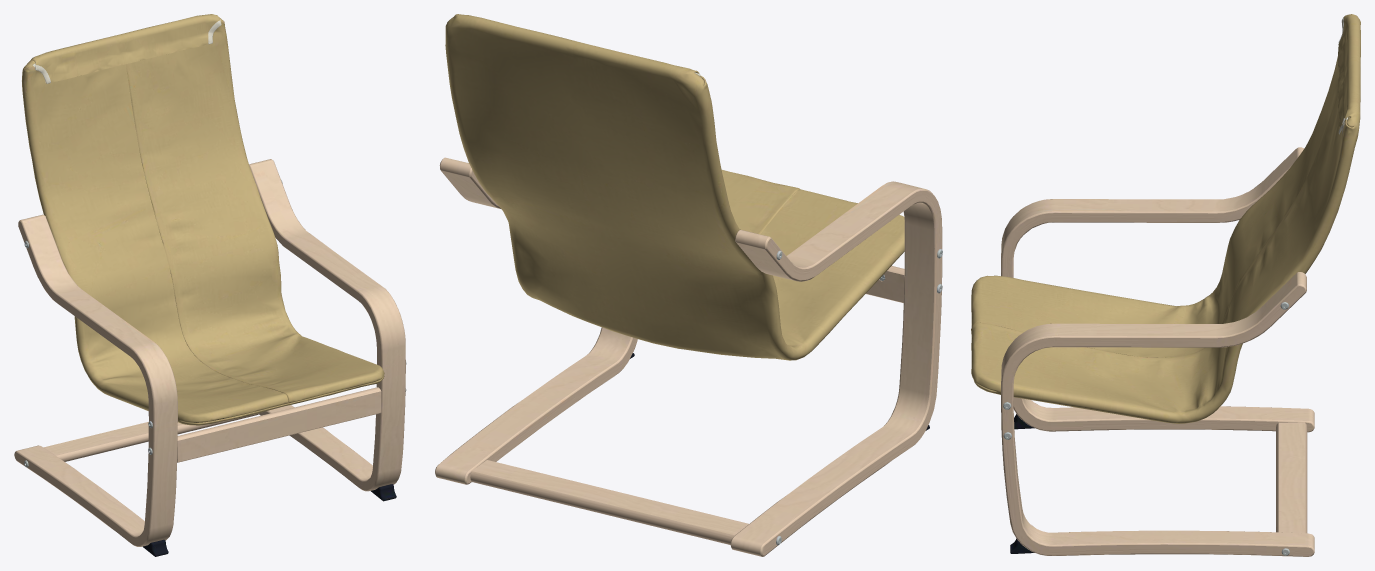
Rendered from poang_rama_fotela_dzieciecego_80418056.glb.
3 views of the same model, side by side, from view 1: azimuth 30°, elevation 25°; view 2: azimuth 150°, elevation 25°; view 3: azimuth 270°, elevation 25° (orthographic). The views are drawn at different scales.
Parts seen in each view (by area): view 1: poang_rama_fotela_dzieciecego_80418056; view 2: poang_rama_fotela_dzieciecego_80418056; view 3: poang_rama_fotela_dzieciecego_80418056.
Part boxes in pixels (<box>): poang_rama_fotela_dzieciecego_80418056: <box>14,14,406,556</box>; poang_rama_fotela_dzieciecego_80418056: <box>435,14,942,556</box>; poang_rama_fotela_dzieciecego_80418056: <box>971,14,1360,556</box>.
Size of the model in its own units: 0.478 by 0.6829 by 0.5643.
Materials: 2 (2 with a texture image).
